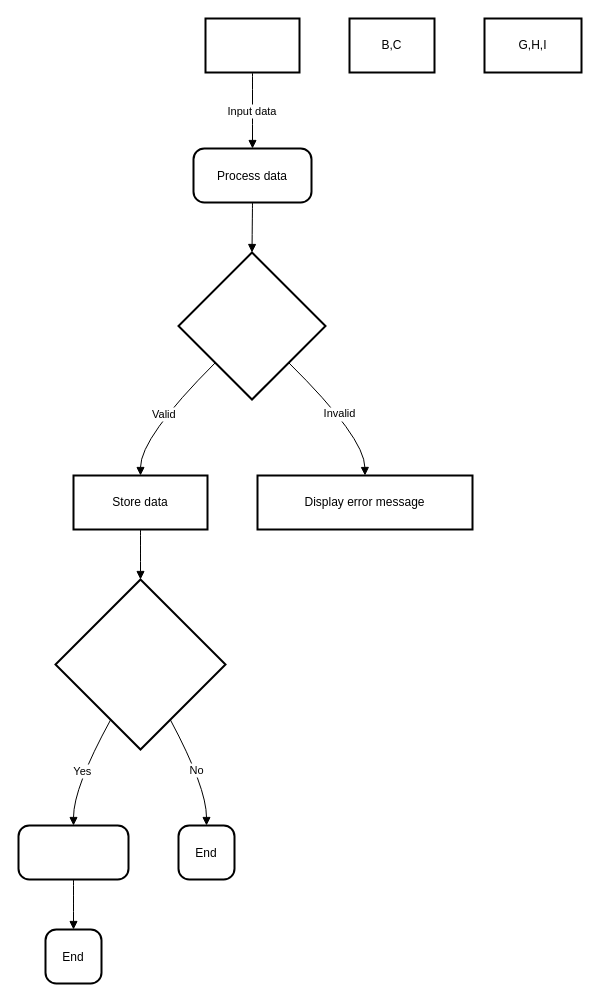
The diagram is 599 pixels wide and 1001 high, and some of its shapes have lost their labels. Here are the shapes that lost their labels. From the top down, the centre of each, then its label:
(x=252, y=45): Start
(x=251, y=325): Validate data
(x=140, y=664): Generate report
(x=73, y=852): Create PDF
